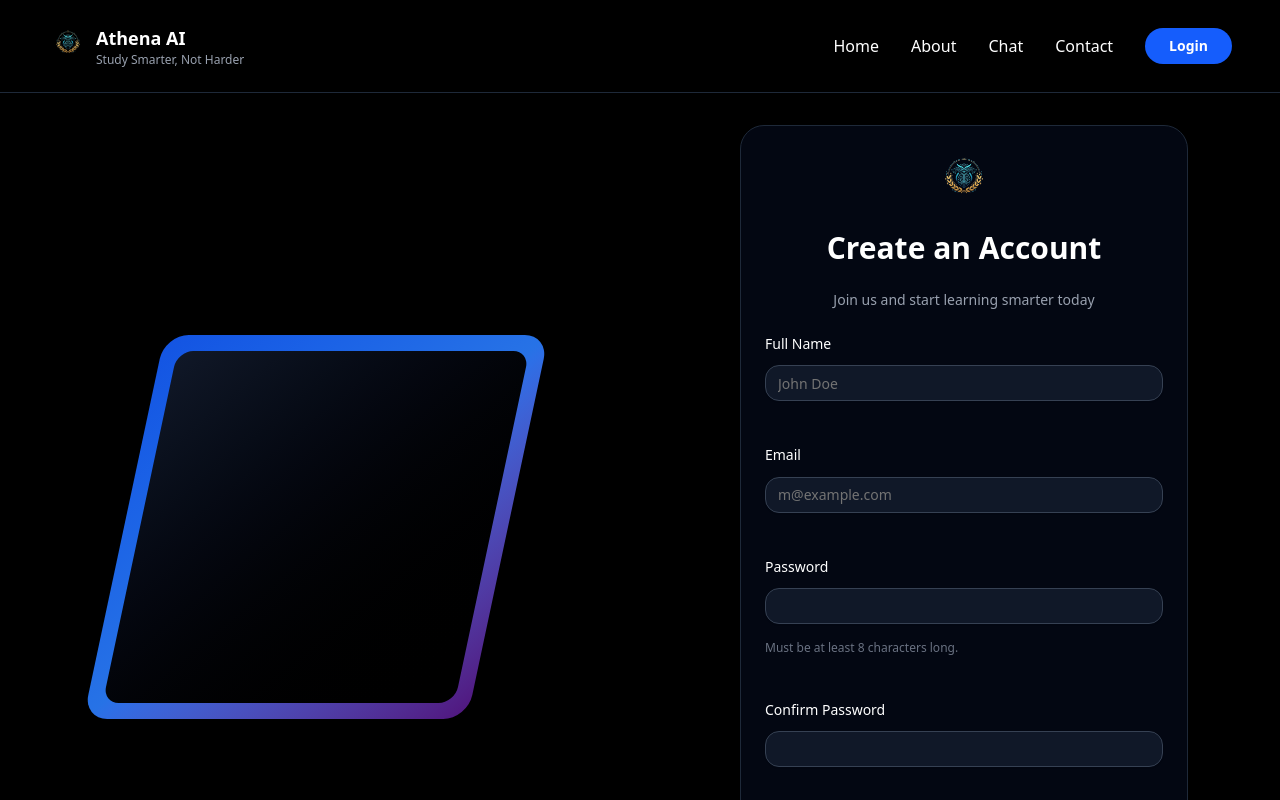
Test case: SignupForm › checks that the passwords match
The image size is (1280, 800).
Type "Ada Lovelace" into the field labelled "Full Name" at (964, 383), box [765, 365, 1163, 401]
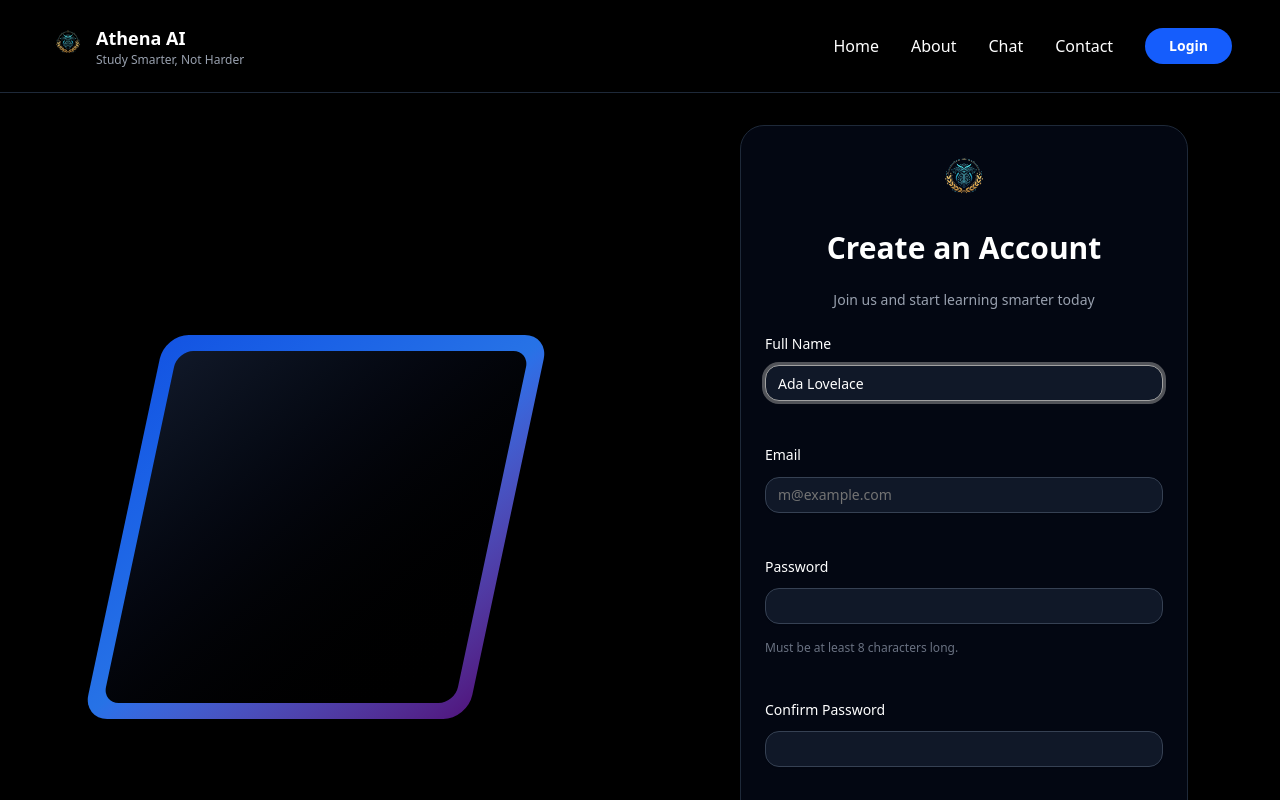
Type "ada@example.com" into the field labelled "Email" at (964, 494), box [765, 476, 1163, 512]
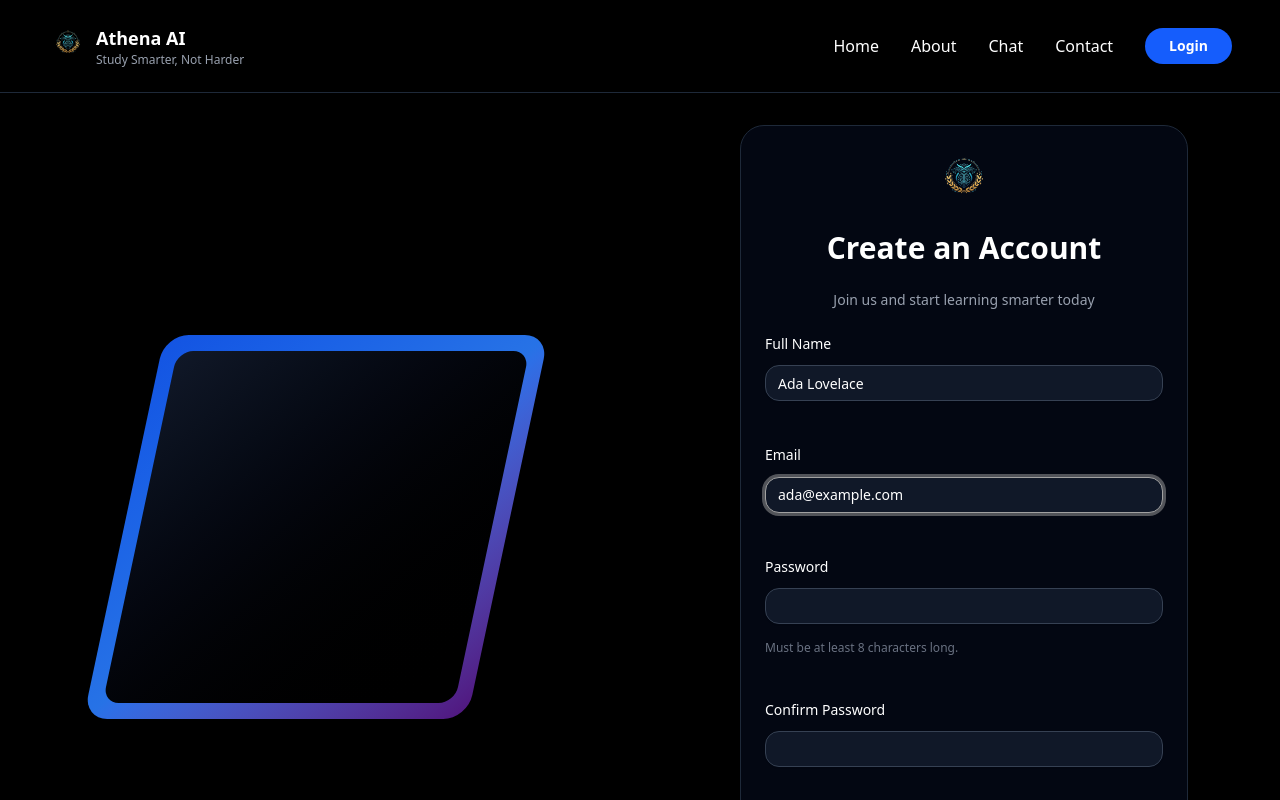
Type "password123" into the password field labelled "Password" at (964, 606), box [765, 588, 1163, 624]
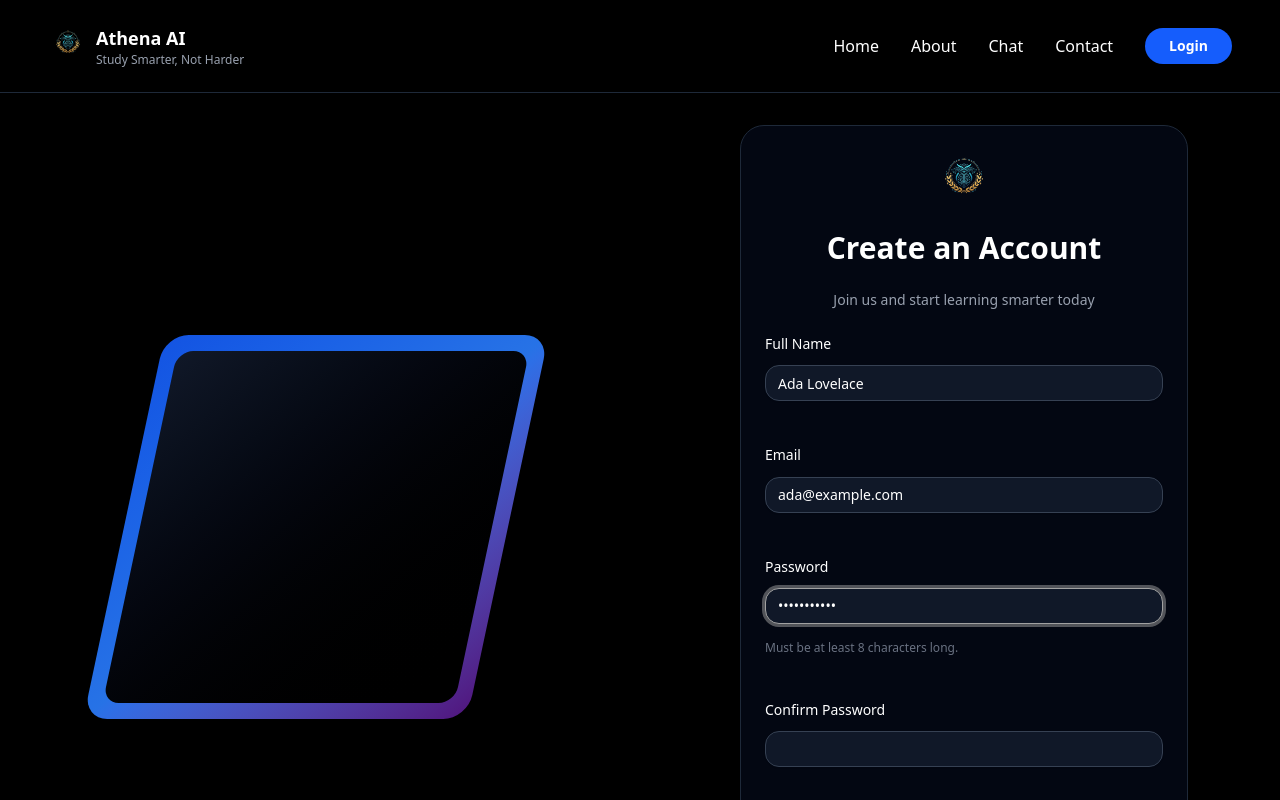
Type "password124" into the password field labelled "Confirm Password" at (964, 749), box [765, 731, 1163, 767]
(page scrolled)
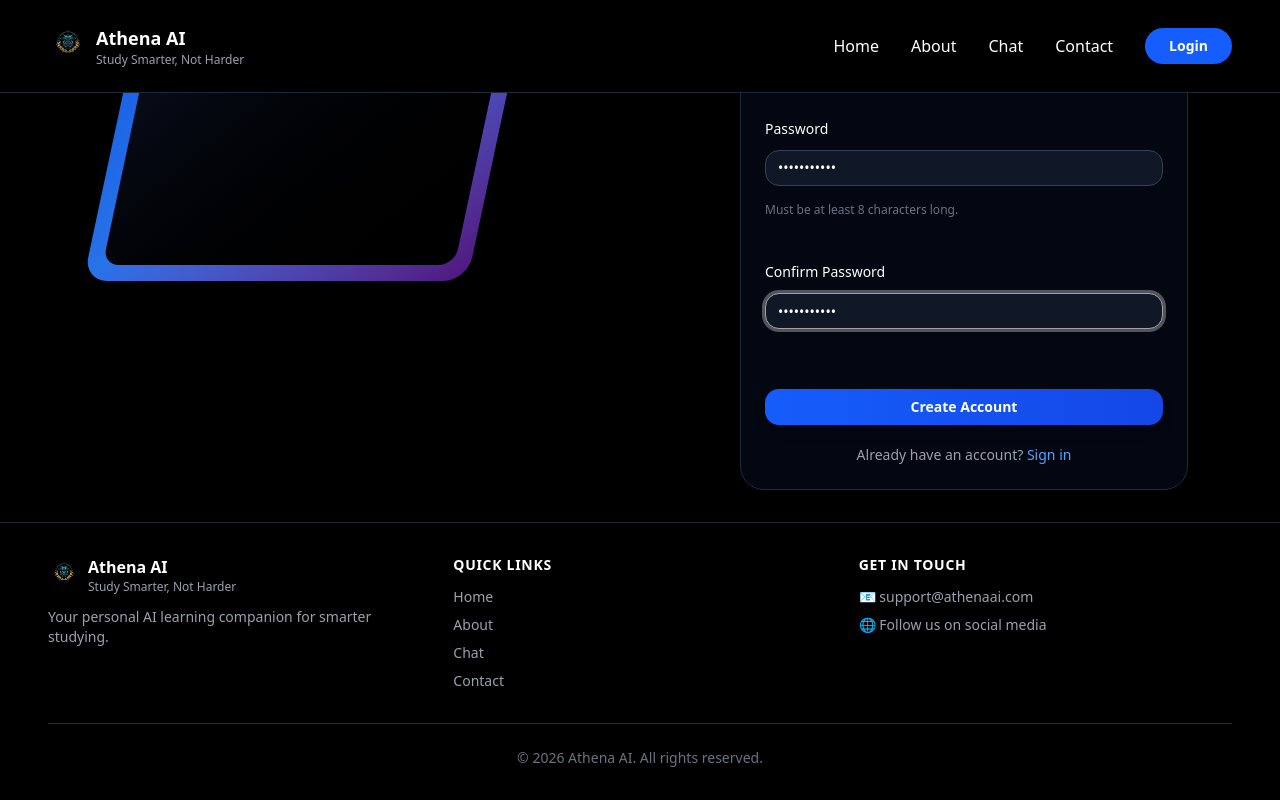
Click the submit button at (964, 407), box [765, 389, 1163, 425]
(page scrolled)
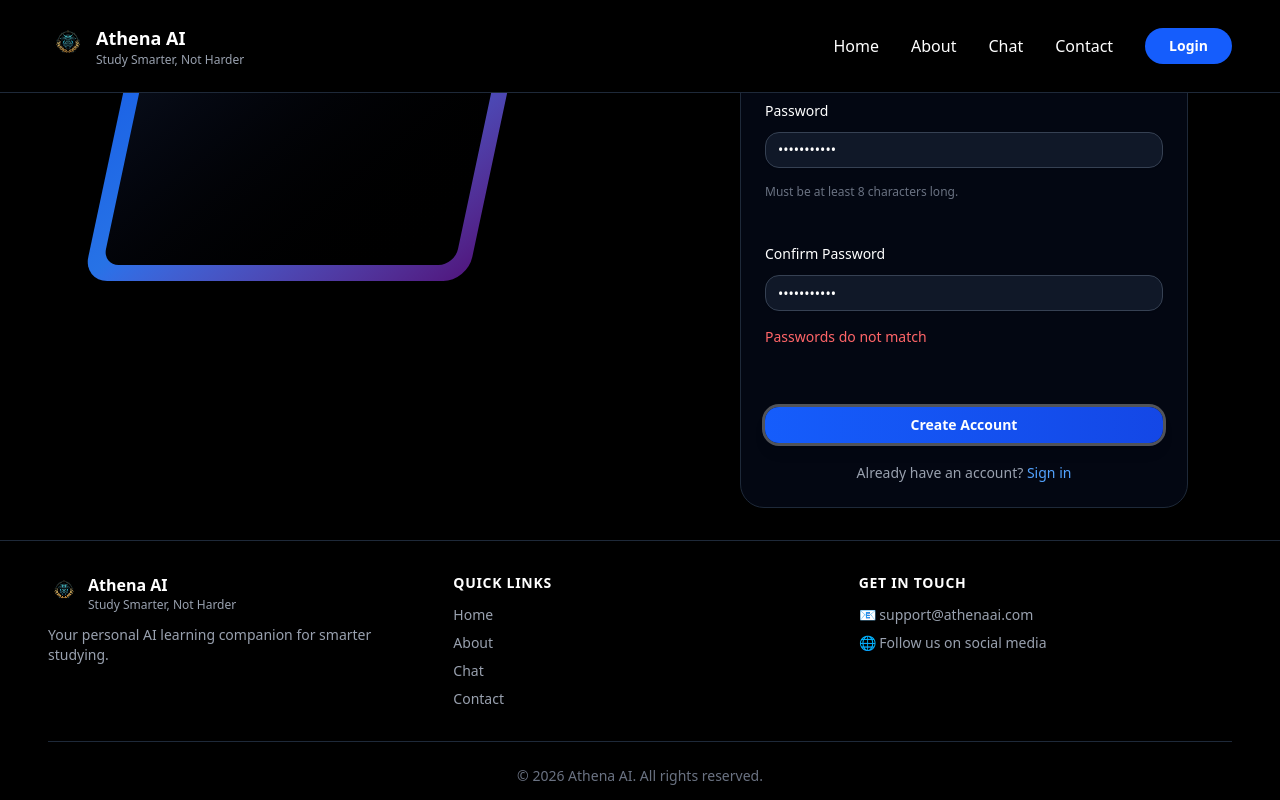
Now the text "Passwords do not match" is shown, box [765, 327, 927, 346]
